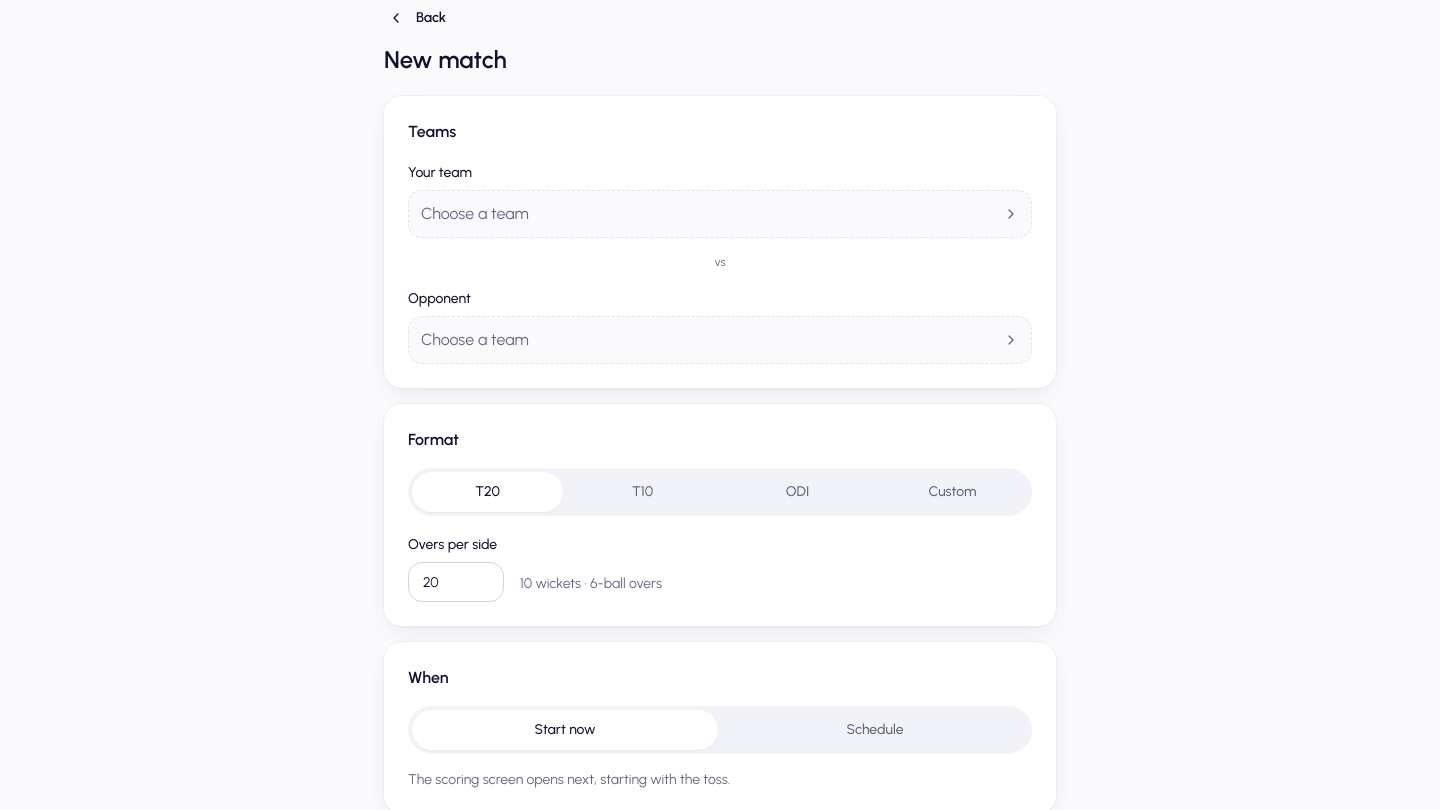
Test case: New match form › explains that a friendly lists only your own teams
This screenshot has width=1440, height=810.
Click the button named "opponent" at (475, 340), box top-left (408, 316), bottom-right (1032, 364)
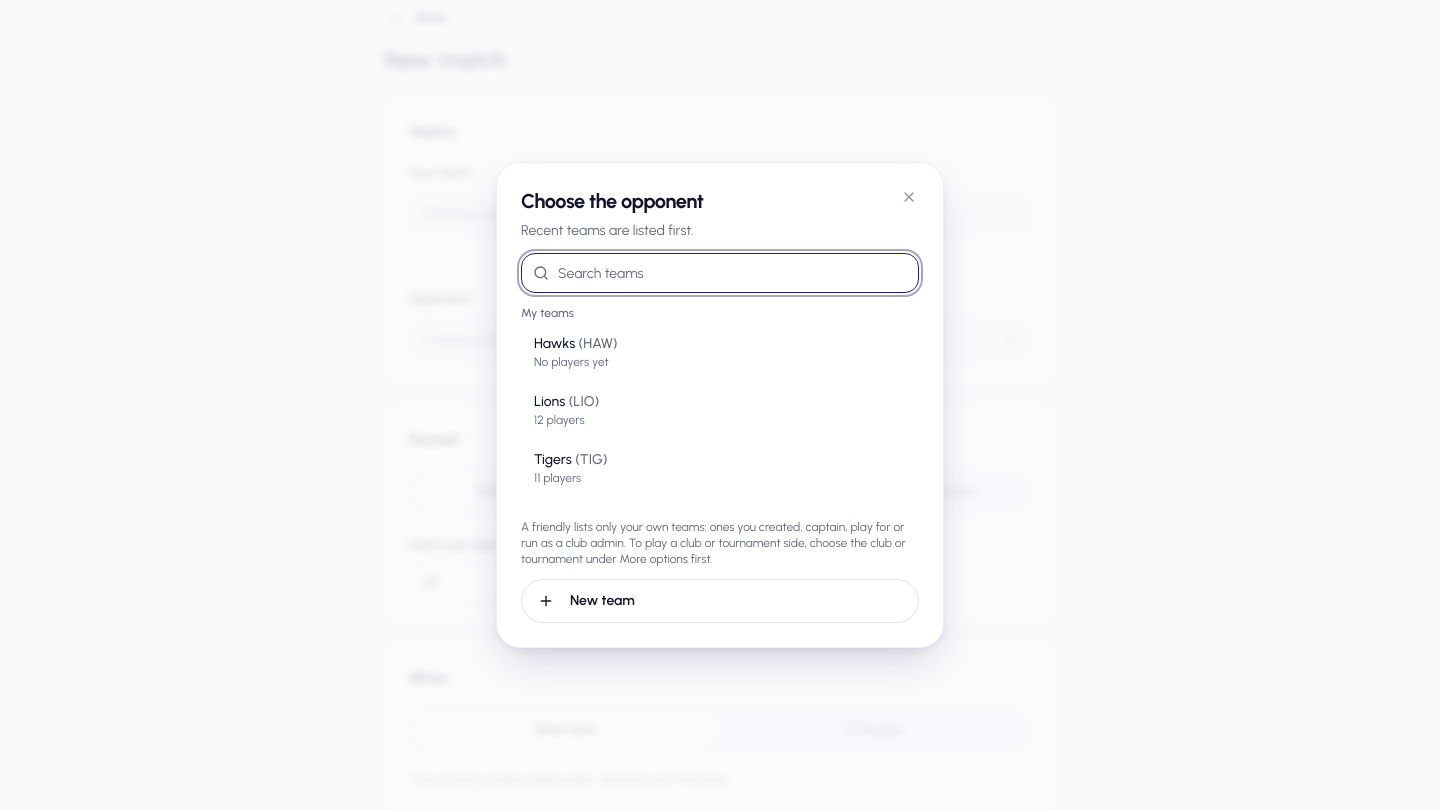
Type "Strangers" into the search field labelled "Search teams" at (720, 273), box top-left (521, 253), bottom-right (919, 293)
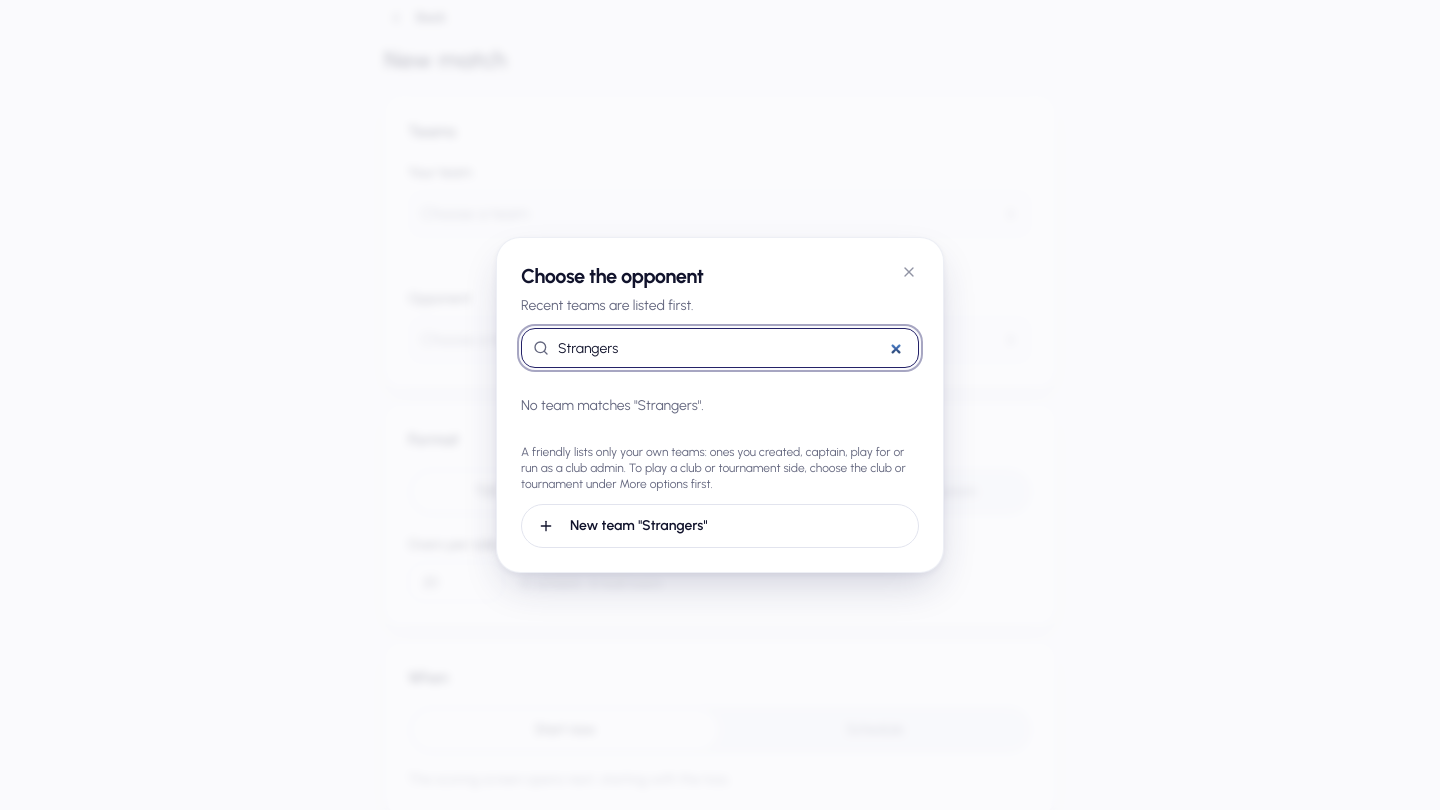
Check: the dialog shows "A friendly lists only your own teams", box top-left (521, 445), bottom-right (906, 491)
Check: the message shows "No team matches", box top-left (521, 397), bottom-right (638, 414)
